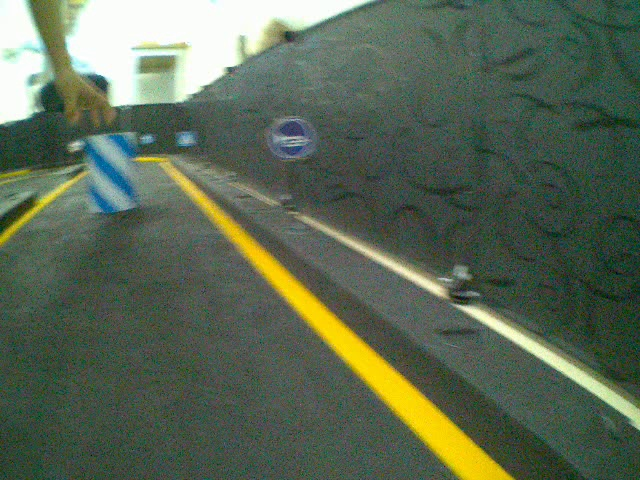bucket: (82, 130, 145, 217)
